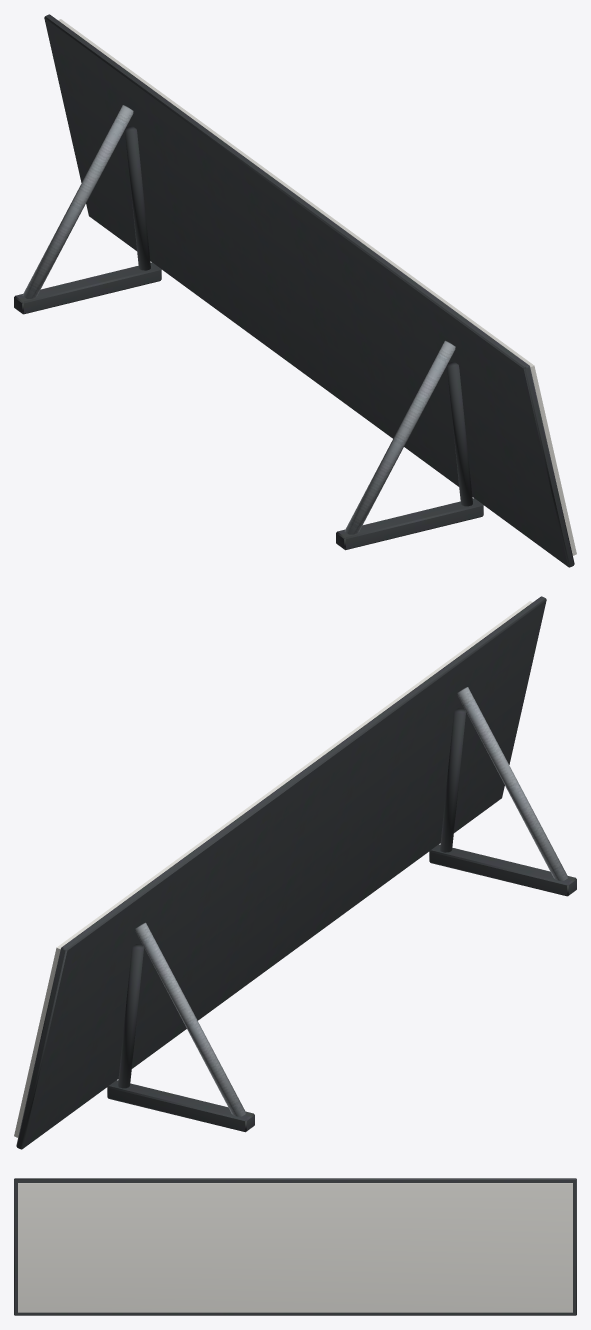
File: hoarding_high.glb
3 renders of one model, top to bottom at view 1: azimuth 30°, elevation 25°; view 2: azimuth 150°, elevation 25°; view 3: azimuth 270°, elevation 25°, orthographic. The views are drawn at different scales.
Visible parts, largest first — view 1: dark-steel, galvanised, board-face; view 2: dark-steel, galvanised, board-face; view 3: board-face, dark-steel.
Boxes of the visible parts, x1,y1,x2,y2 form: dark-steel: (14,14,574,567); galvanised: (22,105,455,534); board-face: (58,19,576,555); dark-steel: (16,596,576,1149); galvanised: (135,687,568,1116); board-face: (14,601,532,1137); board-face: (18,1183,572,1312); dark-steel: (14,1178,576,1315).
Size of the model in its own units: 0.7856 by 0.9933 by 4.06.
3 materials, 2 textured.
